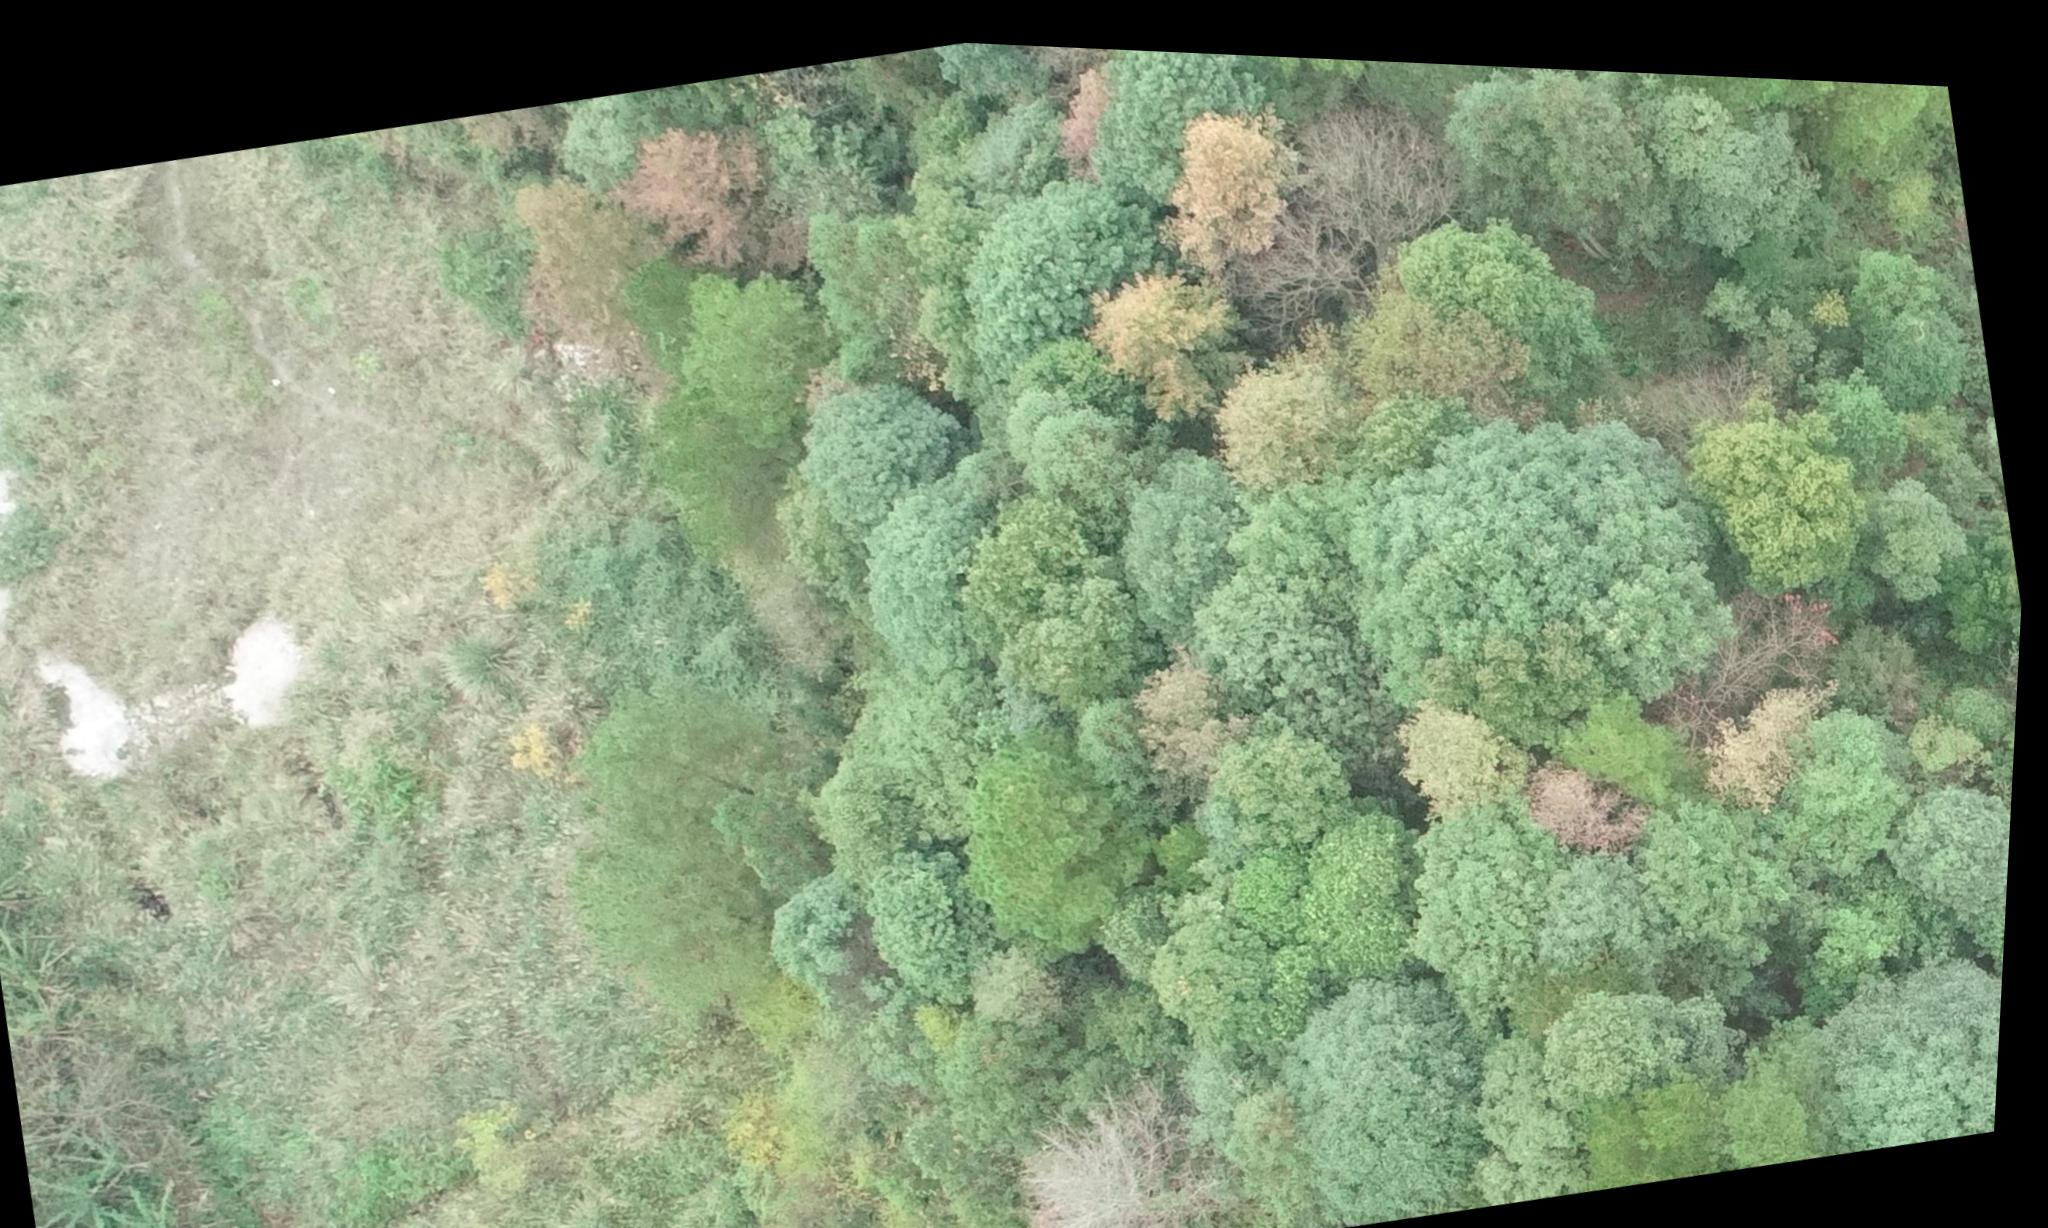heavy: (591, 79, 896, 292), (1152, 75, 1348, 269), (1510, 710, 1685, 873)
light: (1096, 257, 1269, 449)
